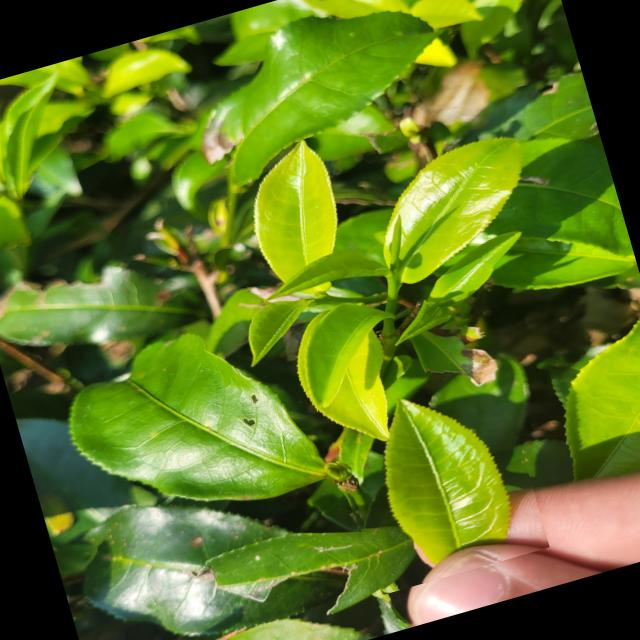Catagory A(1-2 days): (318, 359, 550, 598)
